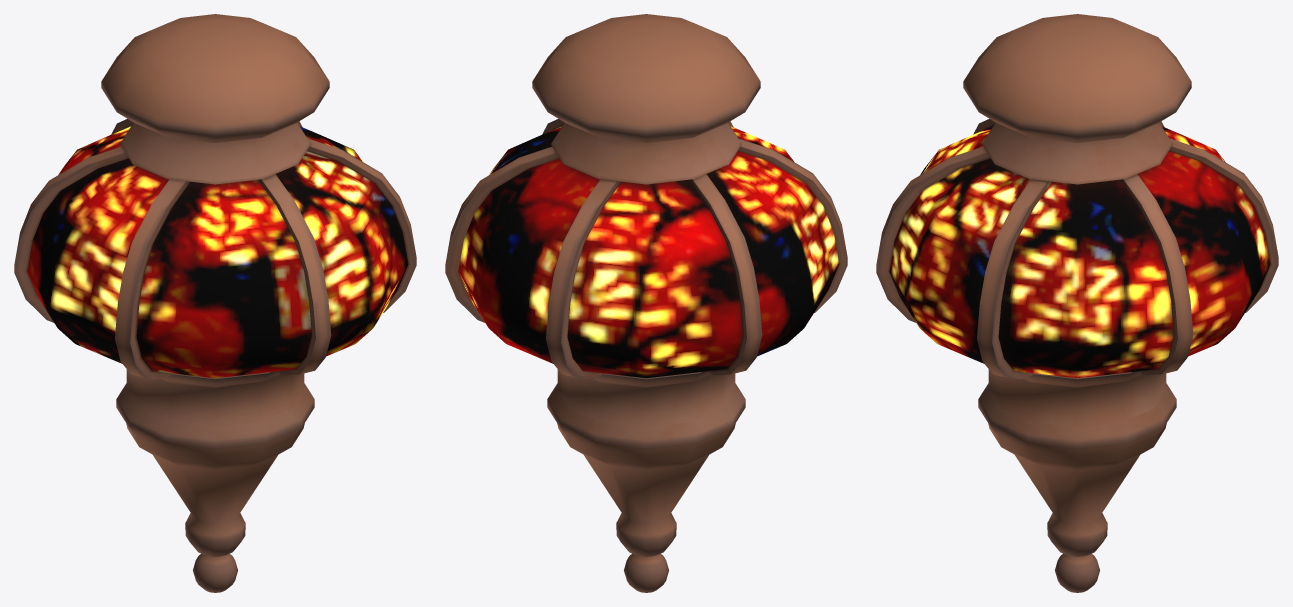
Rendered from SM_Lantern_03.fbx.
The picture shows the model from 3 angles, left to right: view 1: azimuth 30°, elevation 25°; view 2: azimuth 150°, elevation 25°; view 3: azimuth 270°, elevation 25°; orthographic projection.
Parts seen in each view (by area): view 1: SM_Lantern_03_LOD0; view 2: SM_Lantern_03_LOD0; view 3: SM_Lantern_03_LOD0.
Part boxes in pixels (x1,y1,x2,y2): SM_Lantern_03_LOD0: [14, 14, 416, 592]; SM_Lantern_03_LOD0: [445, 14, 847, 592]; SM_Lantern_03_LOD0: [876, 14, 1278, 592].
Size of the model in its own units: 37.1 by 38.7 by 59.06.
